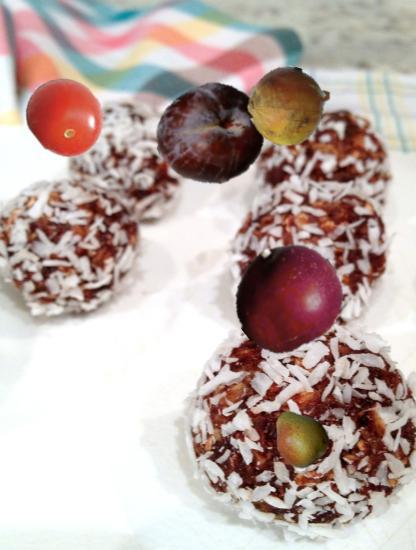Nectarine: (232, 242, 343, 353)
Onion: (247, 66, 329, 148)
Pear: (268, 407, 330, 469)
Plum: (156, 81, 266, 191)
Tomato: (25, 76, 107, 158)
